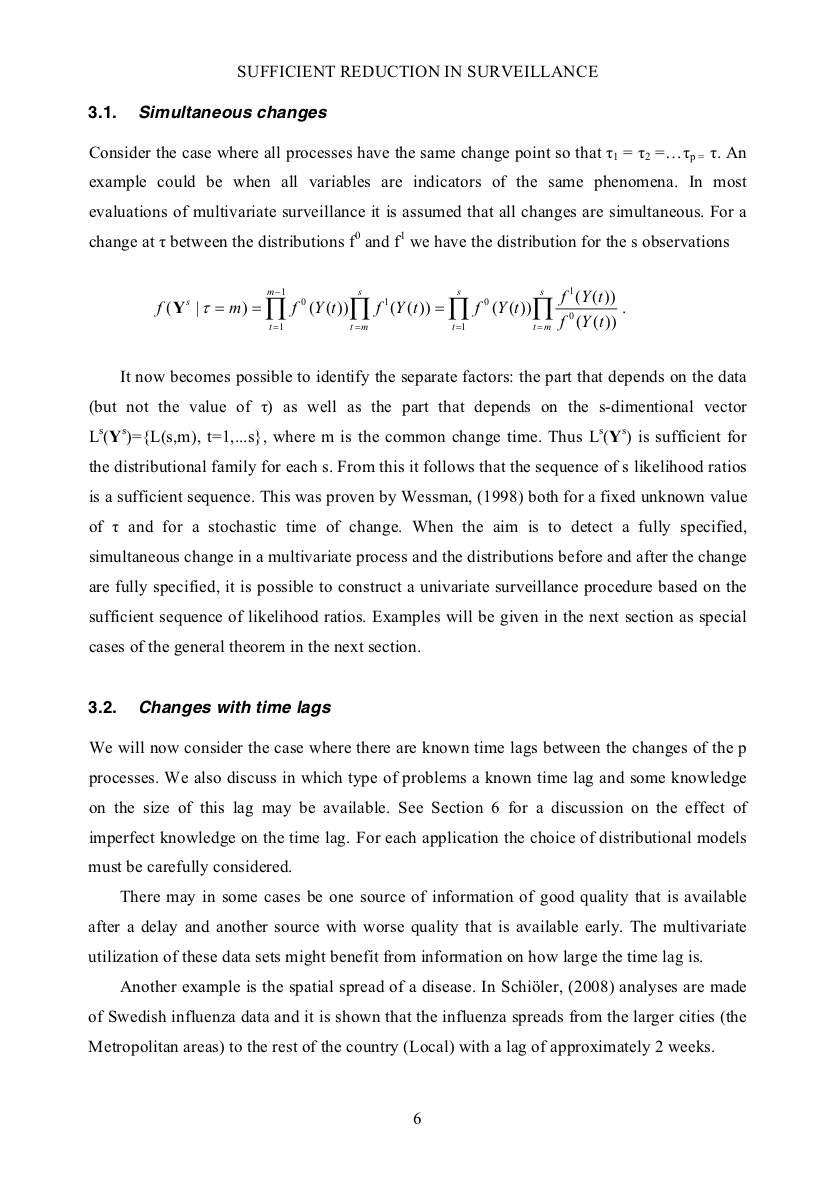formula: (154, 286, 624, 331)
